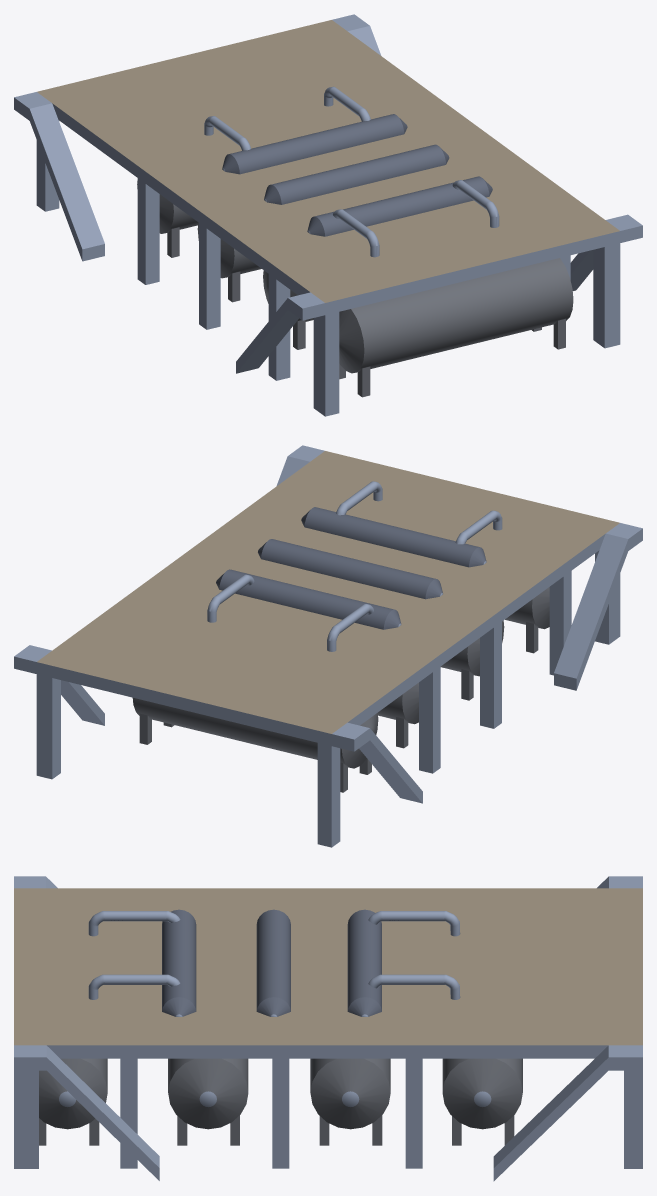
The model's file is fang6.dae.
3 views of the same model, one above another, from view 1: azimuth 30°, elevation 25°; view 2: azimuth 150°, elevation 25°; view 3: azimuth 270°, elevation 25° (orthographic). The views are drawn at different scales.
Parts seen in each view (by area): view 1: group26_pasted__pasted__pasted__polySurface19_pasted__pasted; view 2: group26_pasted__pasted__pasted__polySurface19_pasted__pasted; view 3: group26_pasted__pasted__pasted__polySurface19_pasted__pasted.
Boxes of the visible parts, x1,y1,x2,y2 form: group26_pasted__pasted__pasted__polySurface19_pasted__pasted: (14,14,642,416); group26_pasted__pasted__pasted__polySurface19_pasted__pasted: (14,445,642,847); group26_pasted__pasted__pasted__polySurface19_pasted__pasted: (14,876,642,1181).
Size of the model in its own units: 0.00615 by 0.00233 by 0.00903.
